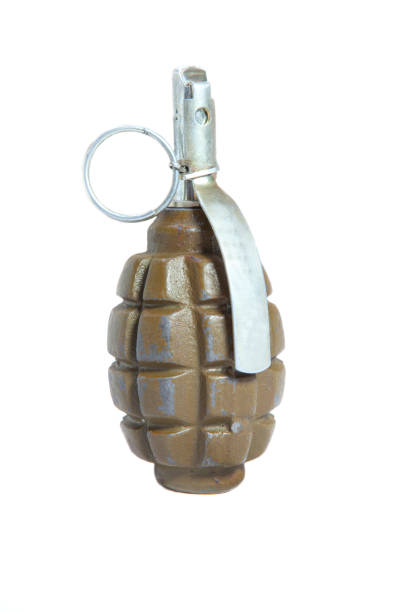e1: (81, 66, 287, 498)
